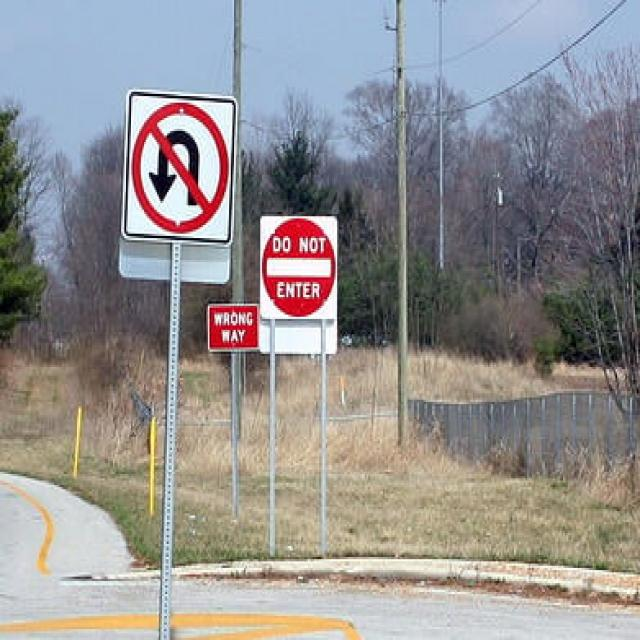no entry: (262, 217, 338, 321)
no u turn: (127, 103, 233, 233)
